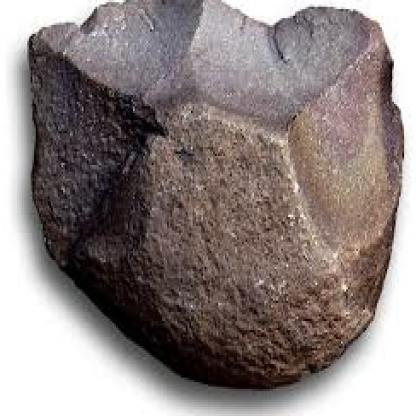Metamorphic_Quartize: (18, 0, 413, 385)
